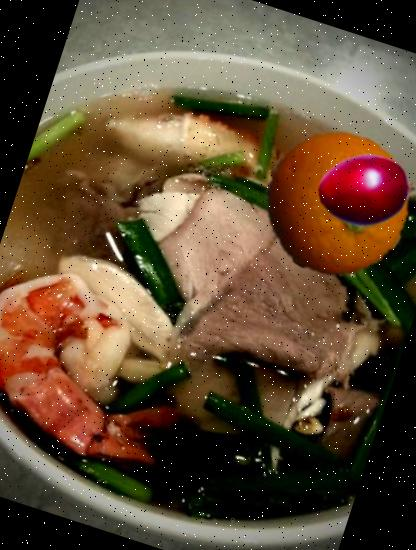Orange: (244, 112, 416, 296)
Tamarillo: (305, 128, 416, 251)
